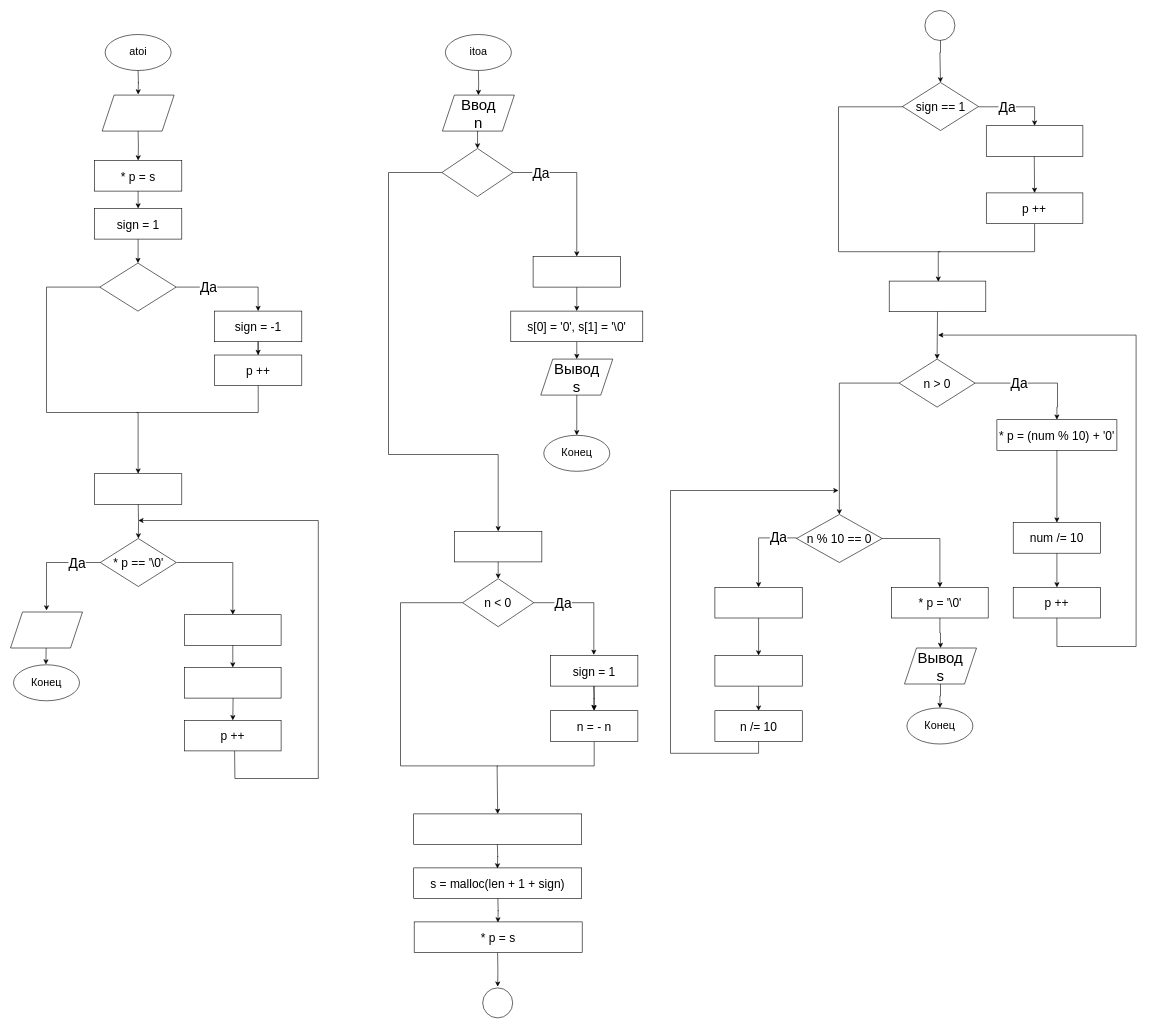
This 1151x1028 diagram has some shape labels left out. The shapes that lost their labels are listed below. From the top down, each one's centre as x and y in pixels, then its label:
the point at 138,112: Ввод s
the point at 1034,140: * p = '-'
the point at 477,172: n == 0
the point at 137,286: s[0] == '-'
the point at 576,271: s = malloc(2)
the point at 937,296: num = reverse(n)
the point at 138,488: num = 0
the point at 498,546: sign = 0
the point at 758,602: * p = '0'
the point at 46,629: Вывод num
the point at 232,629: num *= 10
the point at 232,682: num += * p - '0'
the point at 758,670: p++
the point at 497,828: len = (int) floor( log10(n) ) + 1
